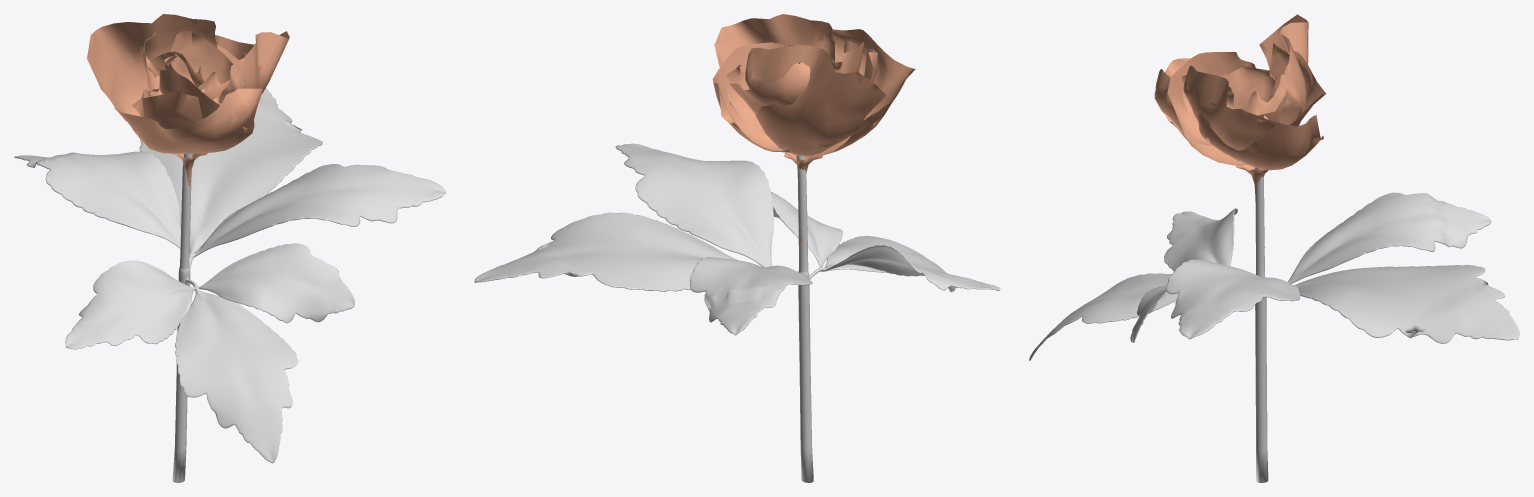
File: peonycreamcp.glb
The picture shows the model from 3 angles, left to right: view 1: azimuth 30°, elevation 25°; view 2: azimuth 150°, elevation 25°; view 3: azimuth 270°, elevation 25°; orthographic projection. The views are drawn at different scales.
Visible parts, largest first — view 1: maki.001; view 2: maki.001; view 3: maki.001.
Boxes of the visible parts, box(x1,y1,x2,y2) form: maki.001: box(14, 14, 445, 482); maki.001: box(474, 14, 1000, 482); maki.001: box(1029, 14, 1519, 482).
Bounding box in the file's own units: 2.99 × 3.4 × 3.42.
